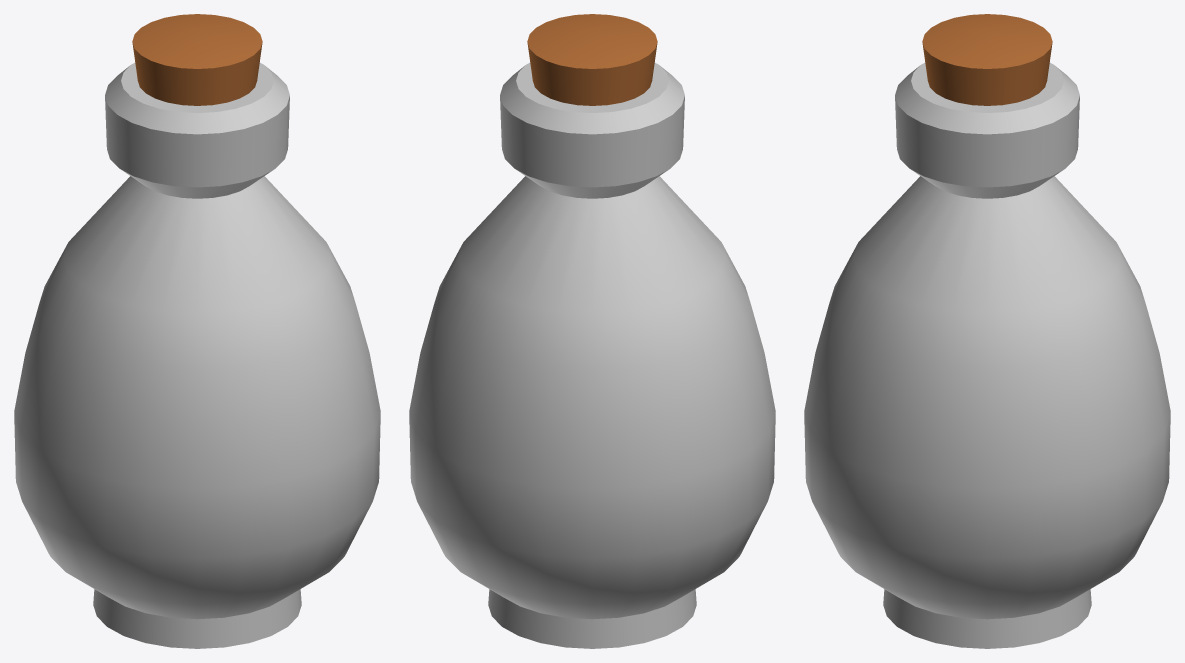
Rendered from potionSmall_red.obj.
3 renders of one model, left to right at view 1: azimuth 30°, elevation 25°; view 2: azimuth 150°, elevation 25°; view 3: azimuth 270°, elevation 25°, orthographic.
Visible parts, largest first — view 1: potionSmall_red_Cylinder.168; view 2: potionSmall_red_Cylinder.168; view 3: potionSmall_red_Cylinder.168.
Part boxes in pixels (x1=…): potionSmall_red_Cylinder.168: x1=14, y1=14, x2=380, y2=648; potionSmall_red_Cylinder.168: x1=409, y1=14, x2=775, y2=648; potionSmall_red_Cylinder.168: x1=804, y1=14, x2=1170, y2=648.
Bounding box in the file's own units: 0.5001 × 0.8622 × 0.5001.
